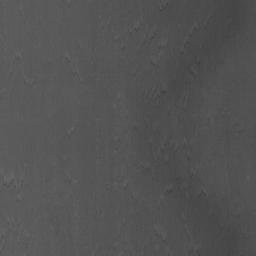Silk spot: (227, 8, 240, 32), (143, 31, 158, 48), (164, 142, 177, 160), (3, 179, 29, 188), (143, 90, 166, 100), (176, 177, 186, 198)
